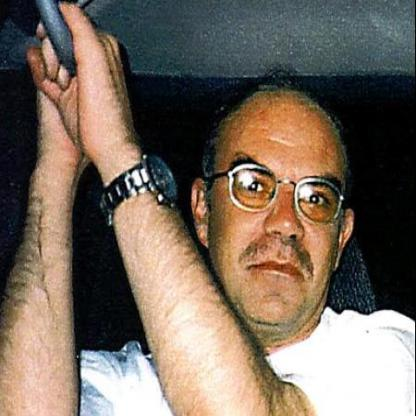face: (209, 87, 344, 330)
